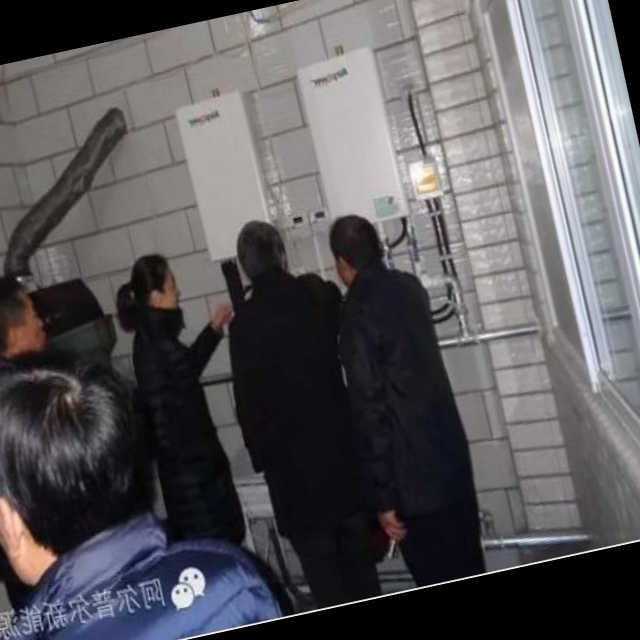Sin_Casco_Mascarrilla: (323, 209, 389, 288), (0, 271, 49, 368), (125, 249, 187, 324), (232, 216, 290, 288)
